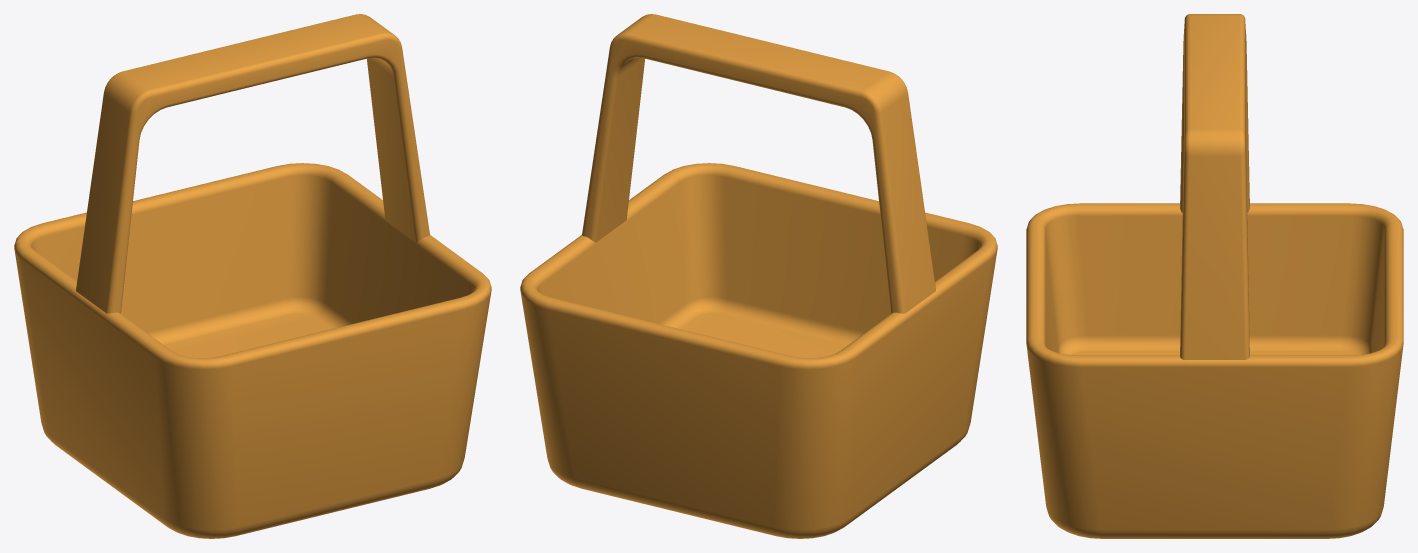
File: sepet2.fbx
3 renders of one model, left to right at view 1: azimuth 30°, elevation 25°; view 2: azimuth 150°, elevation 25°; view 3: azimuth 270°, elevation 25°, orthographic.
Visible parts, largest first — view 1: sepet2; view 2: sepet2; view 3: sepet2.
Part boxes in pixels (box(x1,y1,x2,y2)): sepet2: box(14, 14, 491, 538); sepet2: box(520, 14, 997, 538); sepet2: box(1026, 14, 1403, 538).
Bounding box in the file's own units: 112 × 131 × 112.
